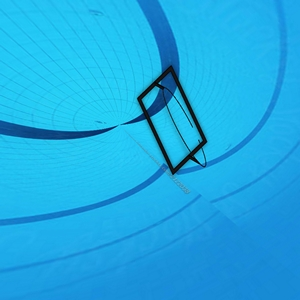circle: (137, 64, 212, 177)
